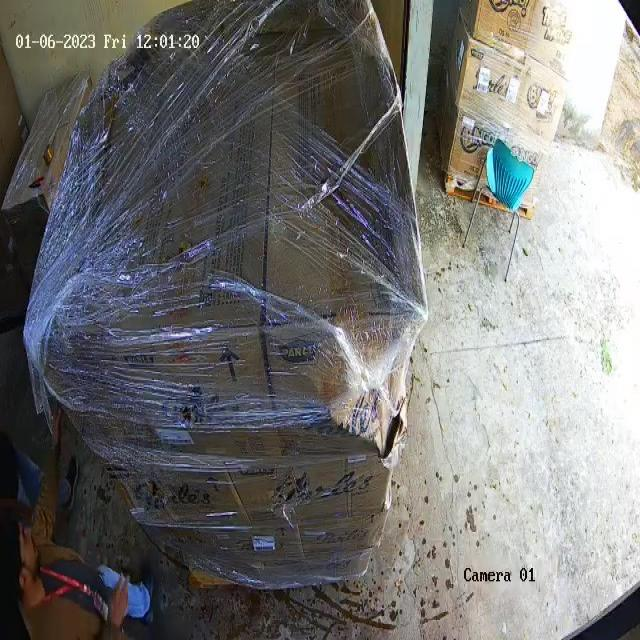leakage: (173, 375, 215, 449), (276, 466, 308, 530), (379, 409, 403, 466)
squeeze: (326, 296, 413, 404)
